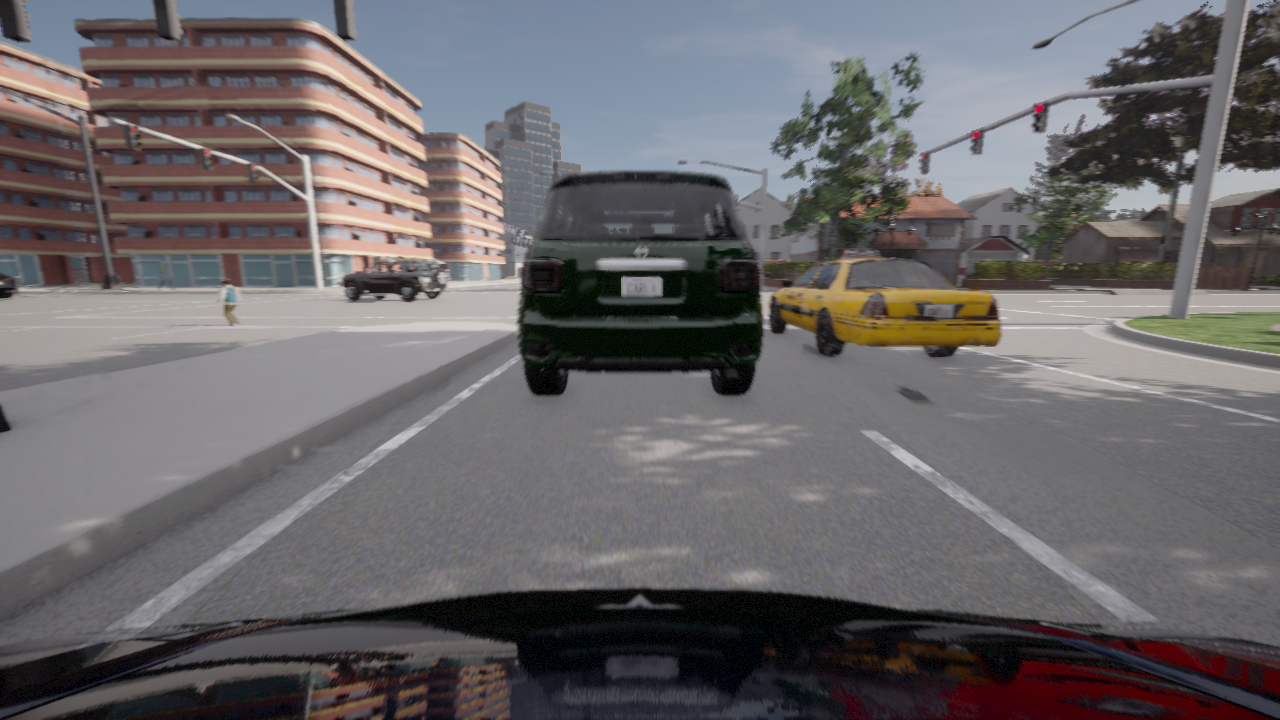cyclist: (0, 588, 1279, 719), (518, 171, 763, 394), (769, 249, 1001, 357), (338, 258, 448, 300)
pedestrian: (216, 278, 240, 326), (157, 261, 175, 290), (114, 272, 120, 280), (447, 290, 448, 291)
